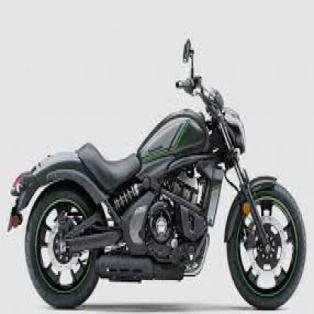Motocicleta: (6, 35, 310, 313)
